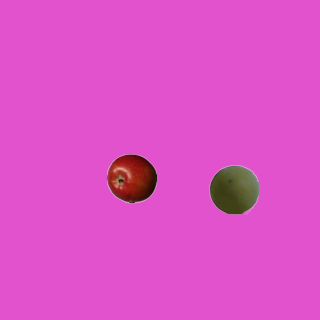Apple Braeburn: (106, 153, 156, 203)
Grape White 4: (208, 164, 258, 214)
